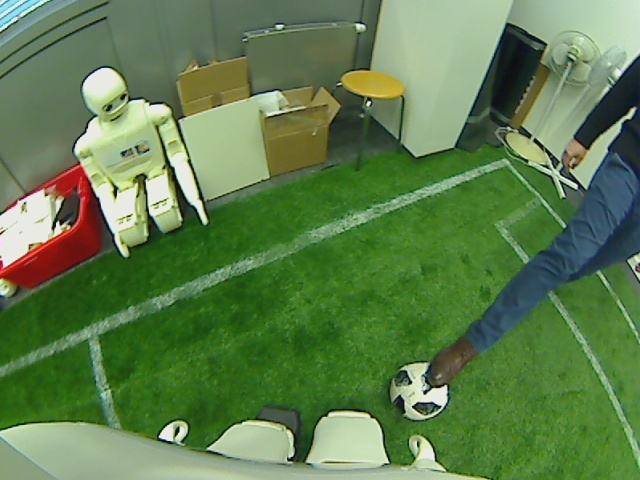ball: (388, 365, 450, 420)
